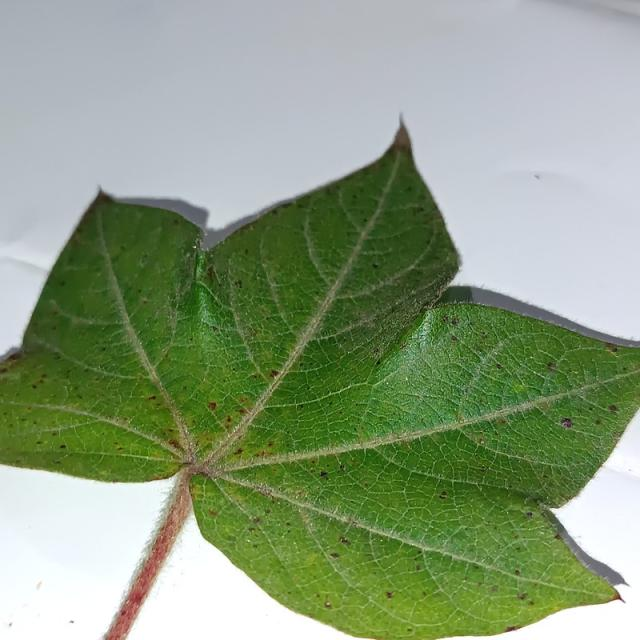Bacterial_Blight: (199, 395, 225, 419), (323, 542, 344, 567), (139, 471, 178, 482), (126, 588, 145, 608), (92, 189, 115, 205), (315, 464, 330, 488), (188, 479, 202, 501), (255, 485, 275, 499), (233, 442, 247, 461), (303, 552, 320, 567), (267, 365, 281, 383), (57, 439, 72, 455), (206, 265, 217, 284), (385, 587, 399, 601), (6, 351, 21, 363), (560, 417, 573, 429), (613, 592, 626, 604), (605, 342, 619, 353), (513, 382, 527, 393), (177, 460, 194, 469), (168, 439, 181, 449), (148, 391, 158, 402), (339, 536, 350, 545), (296, 490, 307, 499), (546, 362, 556, 371), (402, 442, 412, 451), (119, 416, 130, 424), (422, 304, 433, 312), (608, 405, 618, 413), (455, 411, 461, 424), (139, 297, 148, 305), (505, 626, 517, 632), (237, 408, 247, 415), (208, 509, 218, 516), (234, 280, 242, 288), (211, 324, 219, 332), (451, 317, 459, 325), (439, 491, 447, 499), (252, 517, 261, 524), (517, 593, 526, 600), (339, 464, 346, 472), (554, 533, 562, 540), (373, 347, 380, 355), (36, 581, 42, 590), (250, 329, 257, 336), (496, 363, 503, 370), (596, 418, 603, 425), (372, 263, 379, 270), (442, 316, 449, 323), (491, 585, 498, 592), (526, 511, 533, 518), (120, 610, 127, 617), (161, 348, 168, 355), (401, 429, 408, 436), (450, 335, 458, 341), (415, 549, 423, 555), (351, 521, 359, 527), (324, 602, 332, 608), (498, 419, 507, 424), (482, 332, 488, 339), (400, 343, 407, 349), (481, 465, 487, 472), (375, 359, 381, 366), (192, 244, 198, 251), (268, 441, 274, 447), (298, 403, 304, 409), (415, 565, 421, 571), (315, 593, 321, 599), (126, 599, 132, 605), (534, 174, 540, 180), (117, 446, 124, 451), (36, 440, 43, 445), (248, 527, 255, 532), (59, 281, 66, 286), (528, 601, 535, 606), (31, 384, 37, 389), (514, 570, 520, 575), (407, 627, 412, 633), (479, 438, 484, 444), (54, 460, 61, 464), (624, 367, 629, 372), (422, 591, 427, 596), (8, 623, 13, 628), (588, 407, 594, 411), (405, 376, 409, 382), (69, 620, 74, 624), (246, 539, 251, 543), (629, 469, 634, 473), (378, 538, 382, 542)
Cotton: (0, 126, 639, 639)
